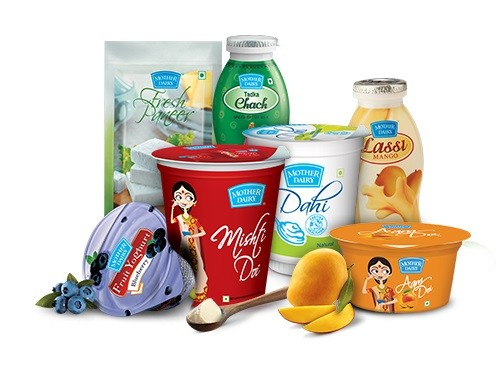Mother_Dairy: (222, 181, 269, 210), (279, 162, 326, 190)
